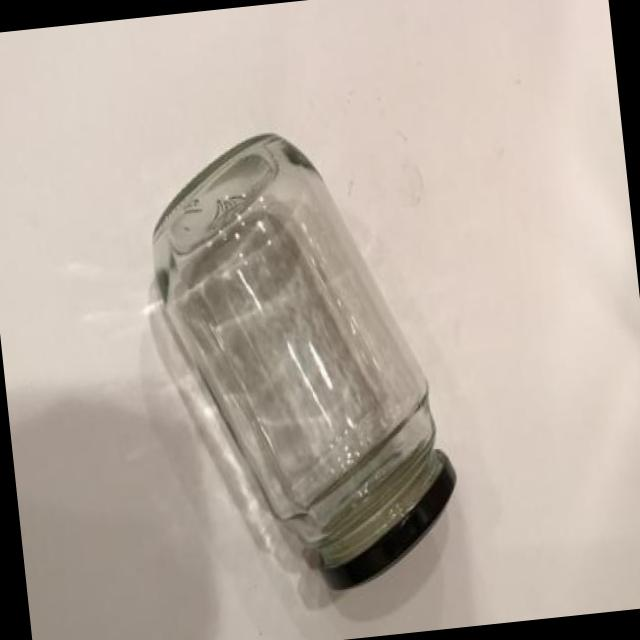bottle: (153, 135, 454, 588)
